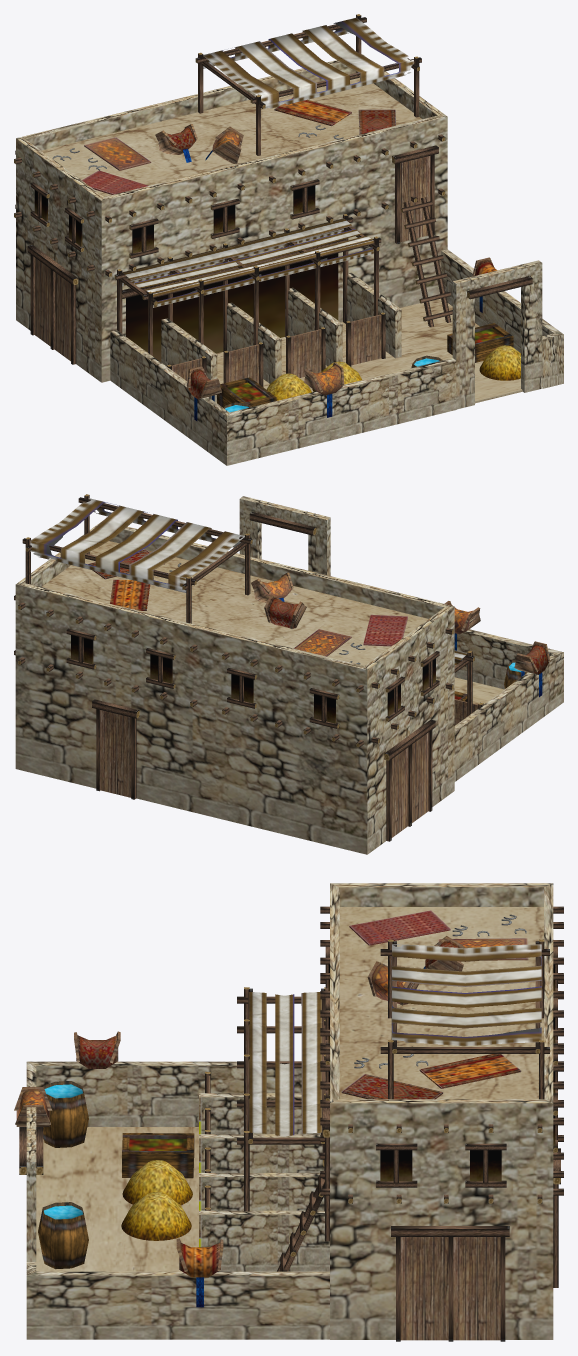
Rendered from stable.dae.
3 views of the same model, one above another, from view 1: azimuth 30°, elevation 25°; view 2: azimuth 150°, elevation 25°; view 3: azimuth 270°, elevation 25° (orthographic). The views are drawn at different scales.
Visible parts, largest first — view 1: stable; view 2: stable; view 3: stable.
Boxes of the visible parts, bbox=[...] form: stable: bbox=[14, 14, 563, 465]; stable: bbox=[14, 494, 563, 854]; stable: bbox=[14, 883, 563, 1341].
Size of the model in its own units: 6.14 by 6.26 by 3.81.
